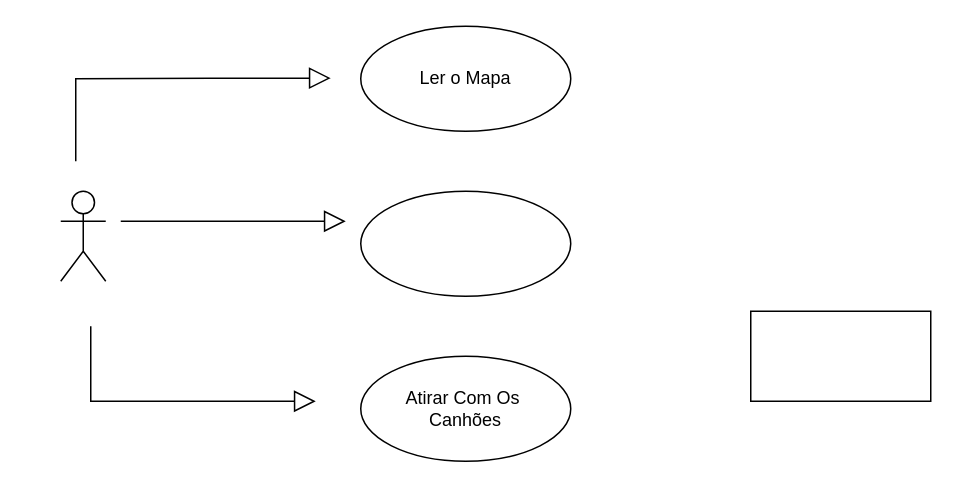
Some shapes in this 957 by 488 pixel diagram are drawn without their labels. The centre of each missing label's shape, as x and y in pixels:
Navegar: pixel 465 243
Pirata Esperto: pixel 82 235
